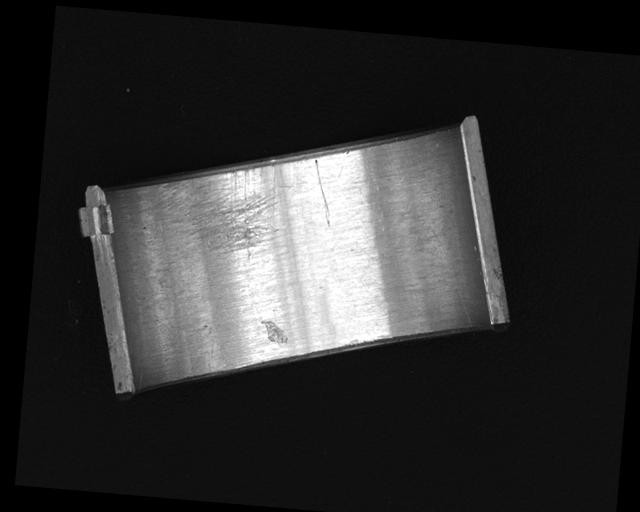bruise: (259, 320, 290, 344)
nick: (421, 227, 479, 327), (308, 157, 337, 226)
scratch: (153, 150, 286, 263)
